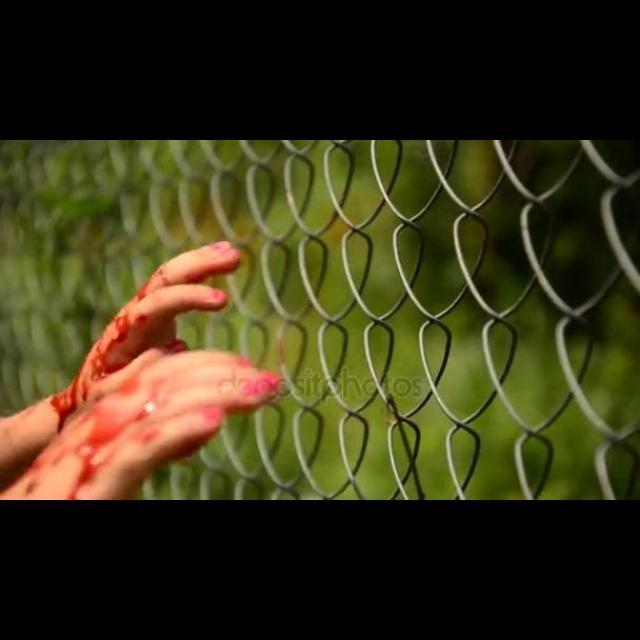blood: (0, 269, 280, 500)
